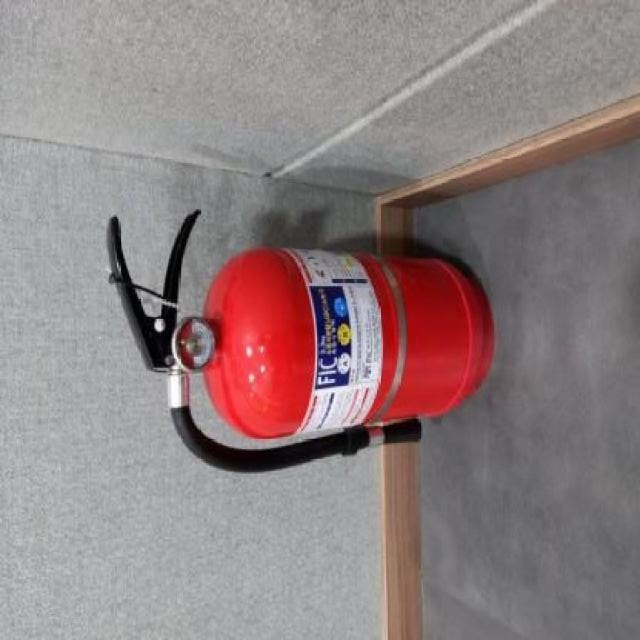fire extinguisher: (107, 209, 493, 474)
